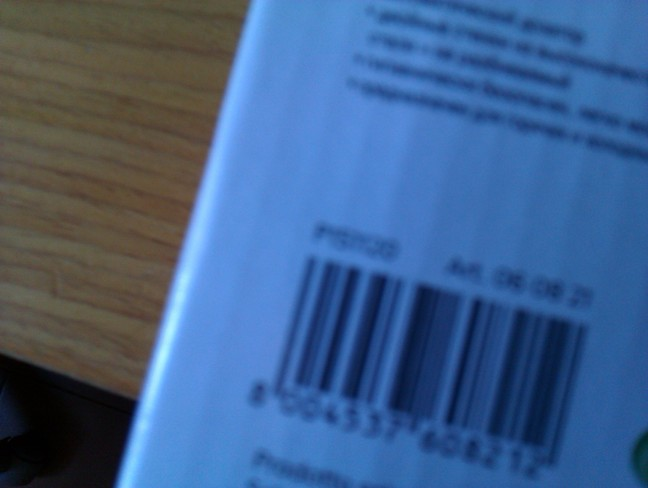detection: (212, 240, 605, 483)
